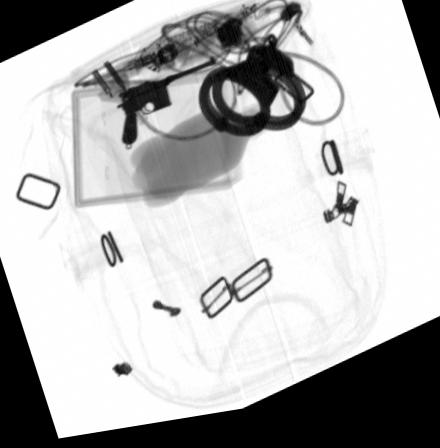Gun: (116, 63, 217, 148)
HandCuffs: (196, 42, 305, 145)
